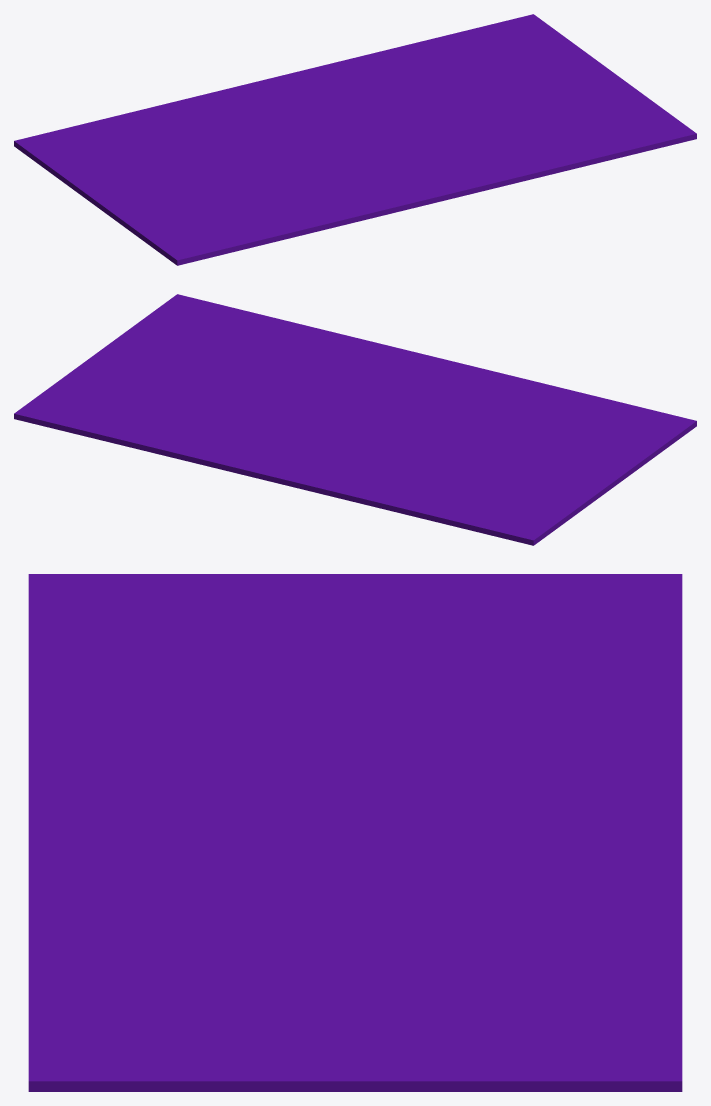
The model's file is Exhibition_18_chunks.fbx.
3 renders of one model, top to bottom at view 1: azimuth 30°, elevation 25°; view 2: azimuth 150°, elevation 25°; view 3: azimuth 270°, elevation 25°, orthographic. The views are drawn at different scales.
Visible parts, largest first — view 1: Exhibition_18_0, Exhibition_18_3, Exhibition_18_2; view 2: Exhibition_18_0, Exhibition_18_3, Exhibition_18_2, Exhibition_18_1; view 3: Exhibition_18_0, Exhibition_18_3, Exhibition_18_2.
Boxes of the visible parts, box(x1,y1,x2,y2) form: Exhibition_18_0: box(14, 79, 354, 265); Exhibition_18_3: box(276, 14, 665, 137); Exhibition_18_2: box(255, 111, 696, 246); Exhibition_18_0: box(281, 401, 696, 545); Exhibition_18_3: box(14, 317, 356, 476); Exhibition_18_2: box(146, 294, 616, 416); Exhibition_18_1: box(159, 454, 290, 484); Exhibition_18_0: box(28, 574, 682, 826); Exhibition_18_3: box(153, 822, 682, 1091); Exhibition_18_2: box(28, 651, 352, 1091).
Size of the model in its own units: 1622 by 16.07 by 883.
